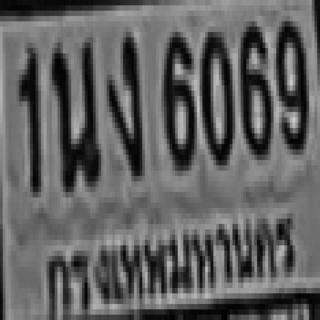A07: (104, 27, 140, 176)
A25: (49, 37, 98, 187)
N00: (200, 27, 232, 160)
N01: (16, 45, 38, 189)
N06: (238, 16, 271, 155), (161, 27, 194, 165)
N09: (274, 16, 306, 149)
P04: (38, 201, 305, 320)
